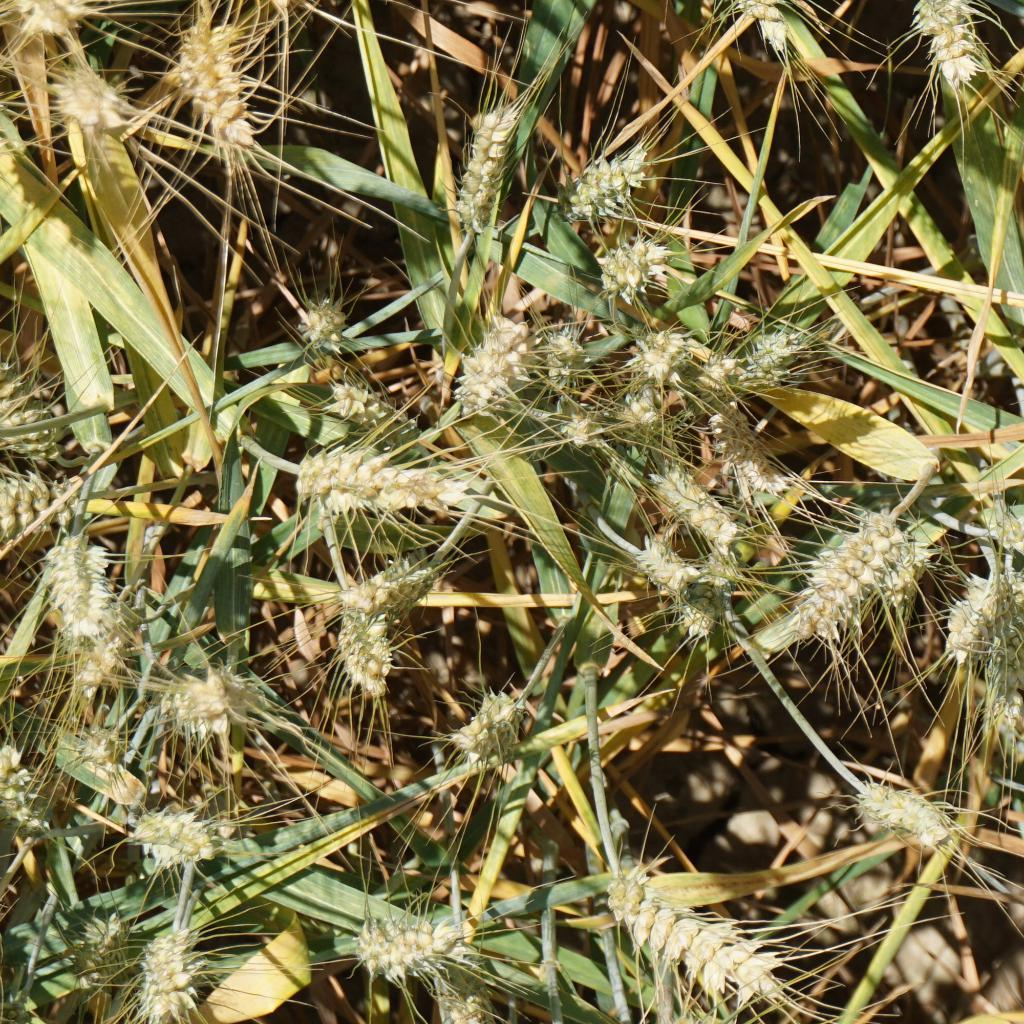0-0: (607, 873, 790, 1004), (283, 444, 489, 529), (159, 9, 271, 162), (441, 86, 544, 236), (145, 648, 289, 751), (451, 301, 544, 433), (698, 380, 795, 503), (800, 507, 894, 632), (346, 901, 491, 982), (848, 773, 962, 865), (0, 343, 80, 474), (45, 528, 123, 649), (551, 139, 655, 229), (627, 547, 723, 644), (641, 457, 738, 548), (72, 582, 143, 706), (328, 595, 404, 708), (935, 564, 1007, 672), (903, 0, 996, 83), (433, 692, 533, 769), (123, 800, 224, 876), (0, 466, 87, 553), (137, 914, 208, 1020), (347, 549, 452, 620), (50, 56, 137, 138), (592, 233, 678, 310), (316, 374, 413, 436), (0, 735, 55, 843), (64, 907, 131, 994), (991, 576, 1024, 720), (735, 320, 815, 378), (291, 289, 357, 359), (709, 0, 792, 47), (620, 318, 685, 378), (540, 323, 597, 389), (439, 967, 496, 1024), (2, 0, 85, 39), (76, 715, 123, 781), (974, 486, 1024, 547), (621, 375, 668, 428), (553, 411, 607, 455), (203, 0, 301, 16)
